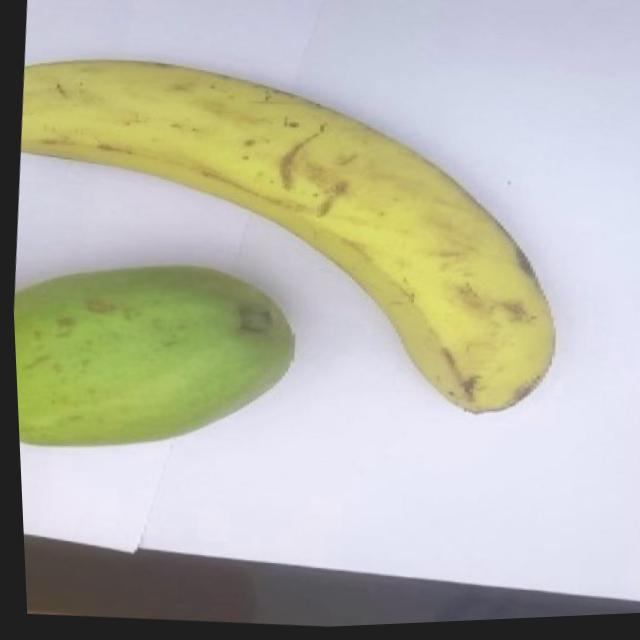Banana: (2, 39, 578, 442)
